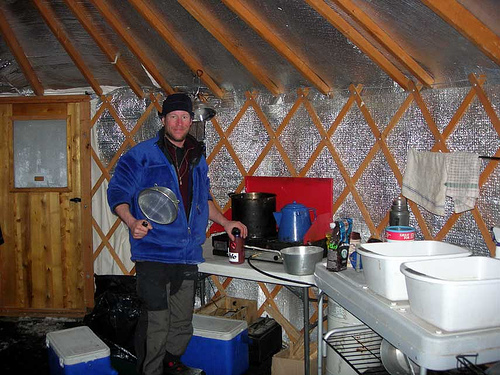without_mask: (159, 106, 194, 141)
